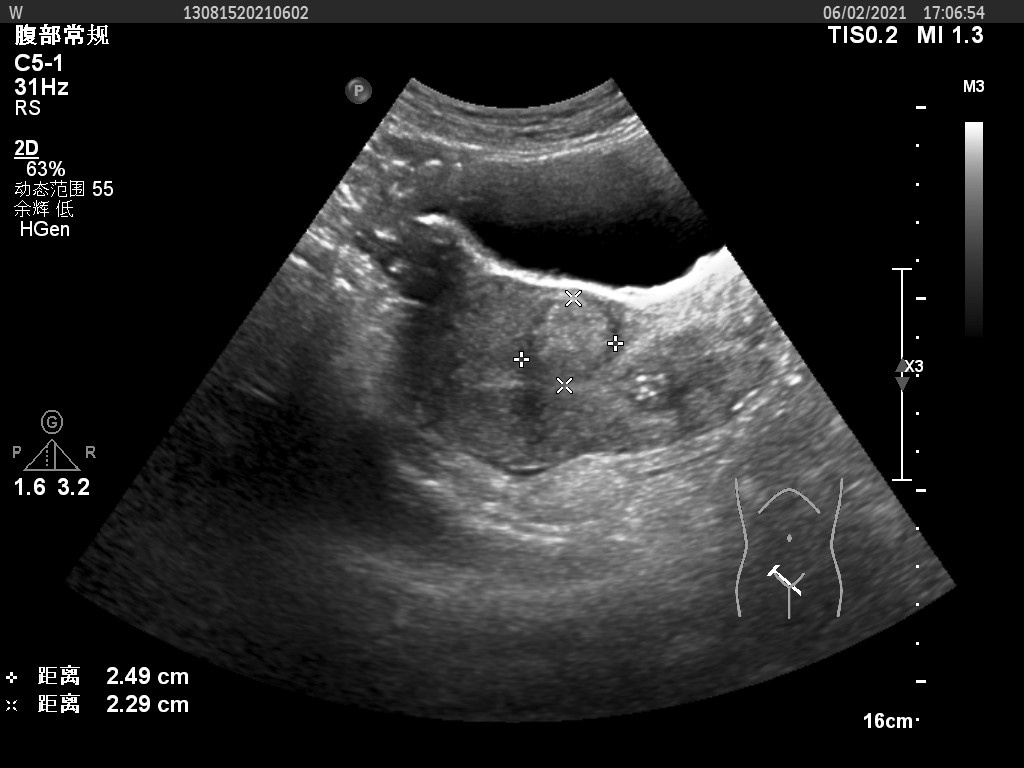肌瘤: (519, 299, 619, 387)
